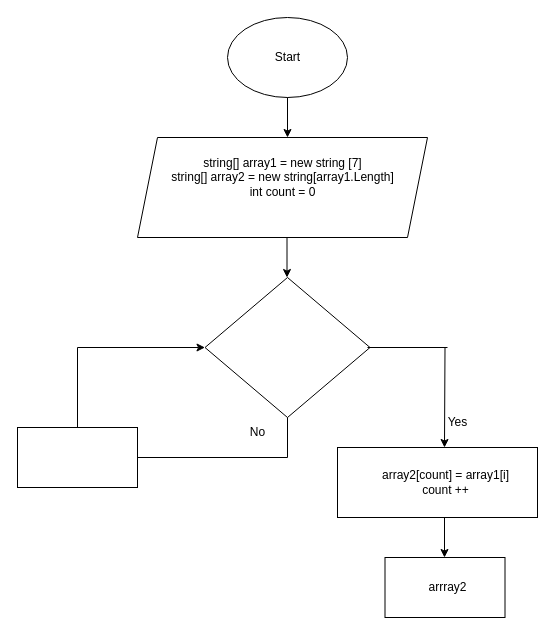
Image size: 555x635. Some labels were removed from this diagram. Here are the shapes that lost their labels. From the top down, the centre of each, then its label:
At (x=287, y=347): "array1[i].Length <= 3".
At (x=77, y=457): "i++".
